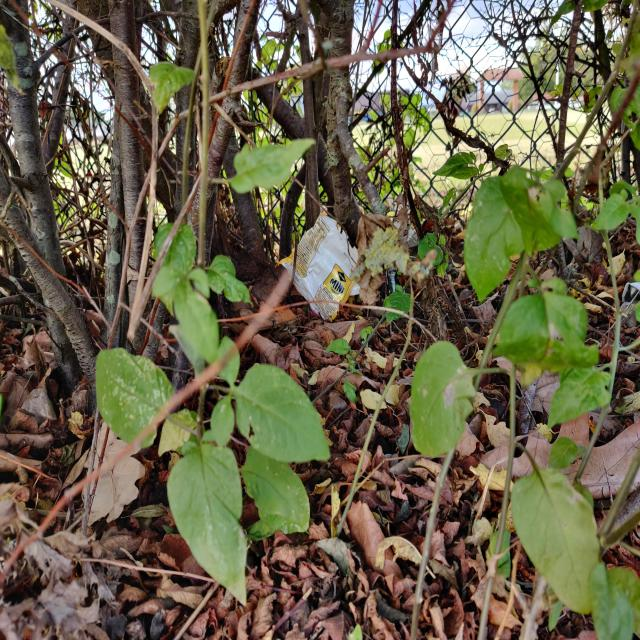litter: (280, 204, 367, 325)
